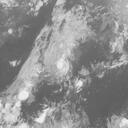cyclone: (44, 51, 73, 83)
